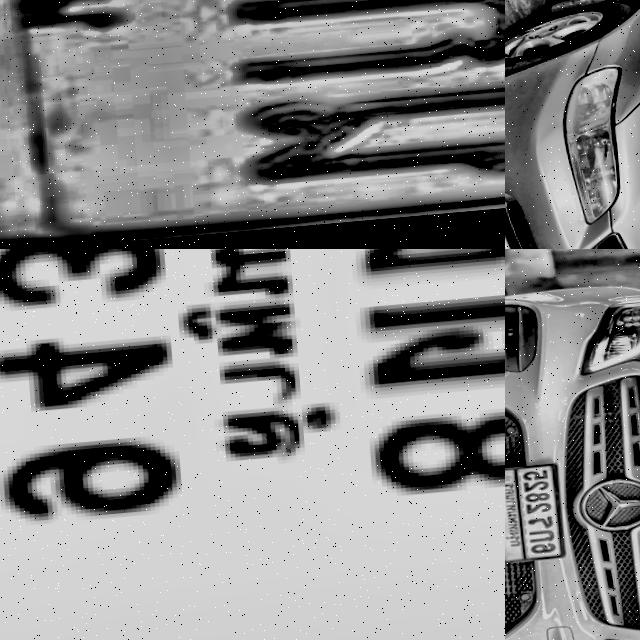license-plate: (0, 249, 505, 640), (0, 0, 505, 249), (505, 465, 562, 565)
